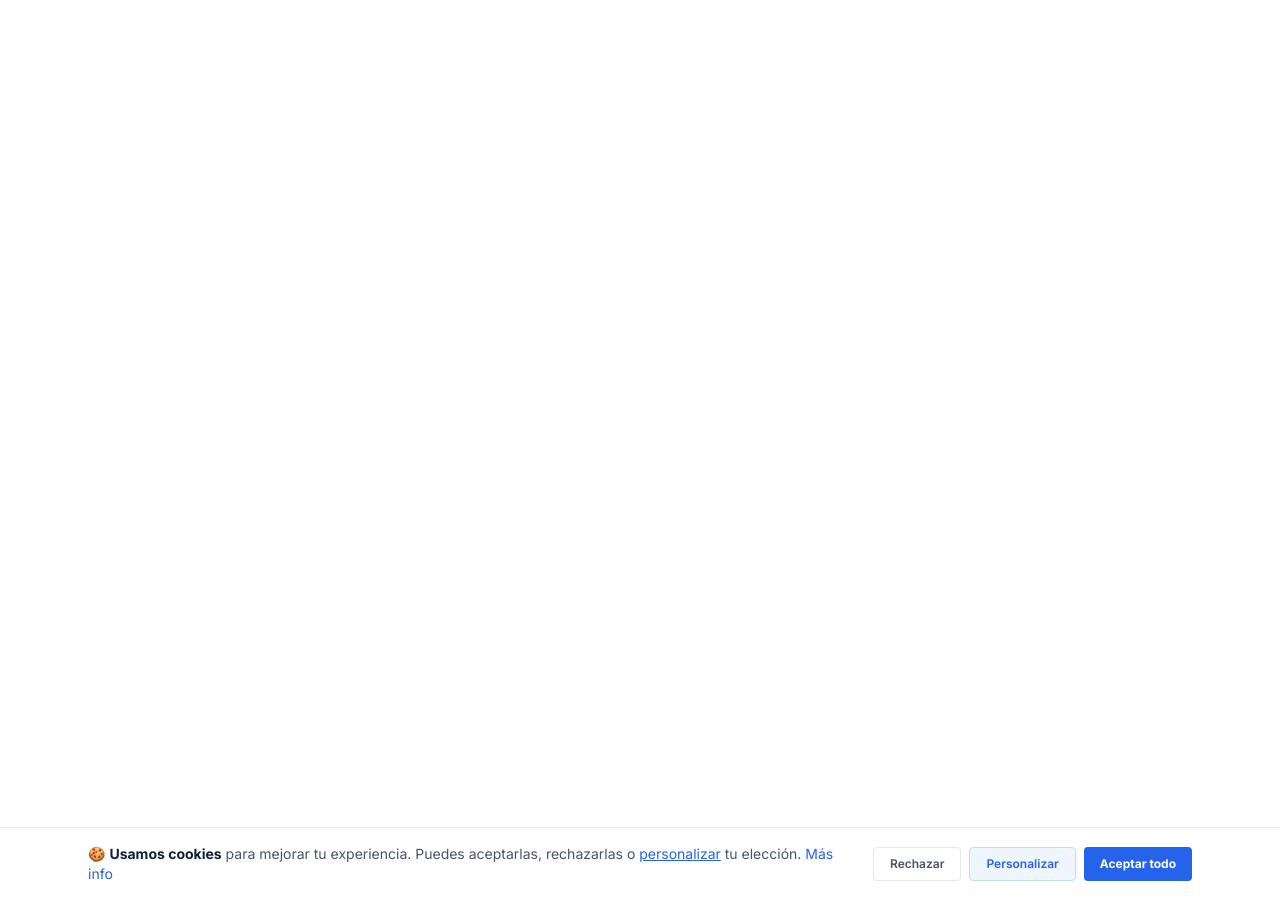
it: CookieBanner › opens preferences modal on "Personalizar"
This screenshot has width=1280, height=900.
What coordinates should you click on to do the following:
click the button "Personalizar"
I would click on:
 (1023, 864)
Its box is [970,847,1076,881].
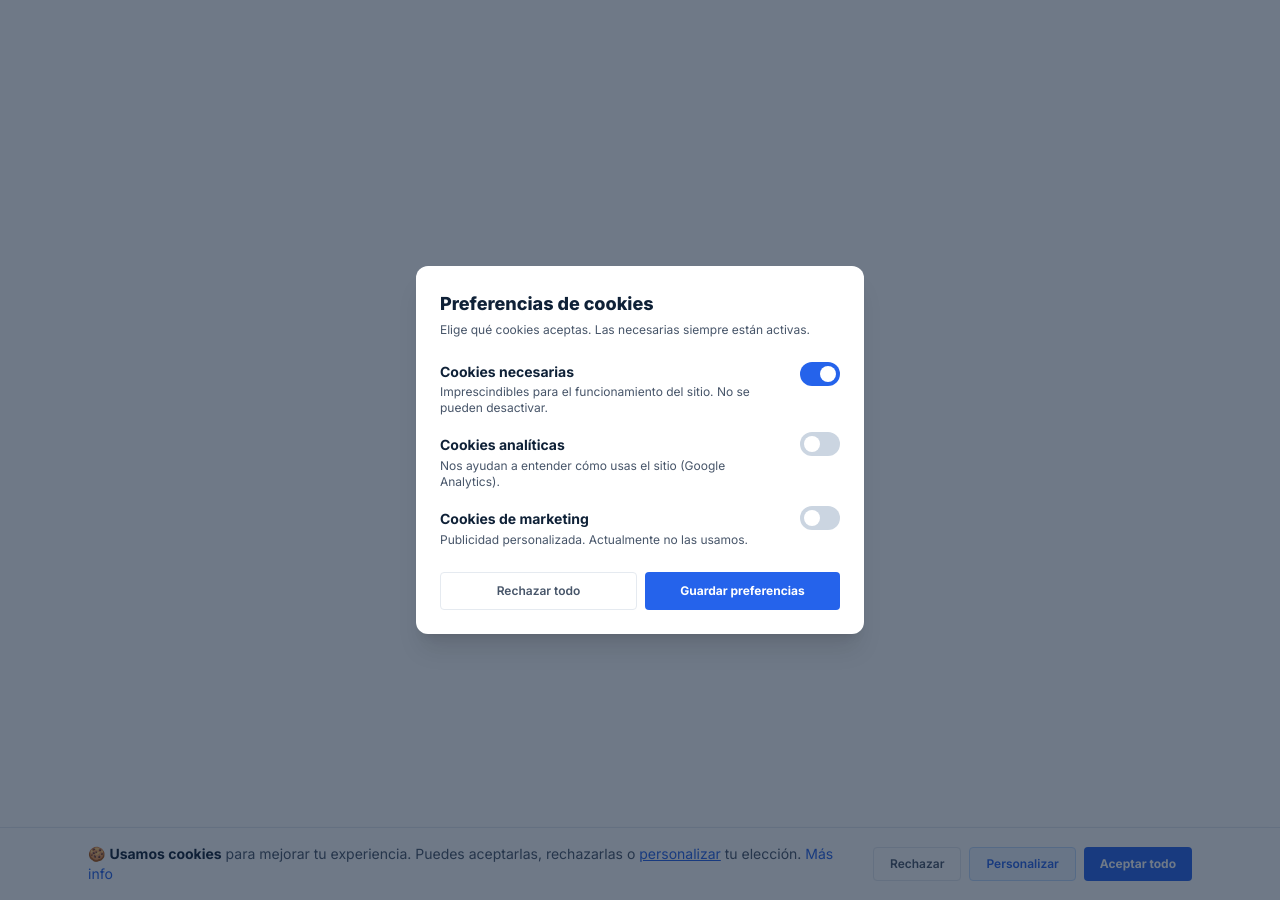
Expected: the text "Cookies necesarias" is shown, [440,363,574,380]
Expected: the text "Cookies analíticas" is shown, [440,436,565,453]
Expected: the text "Cookies de marketing" is shown, [440,510,589,527]
